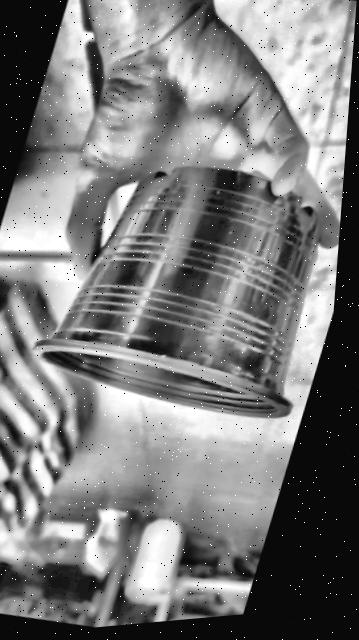pot: (33, 167, 317, 417)
